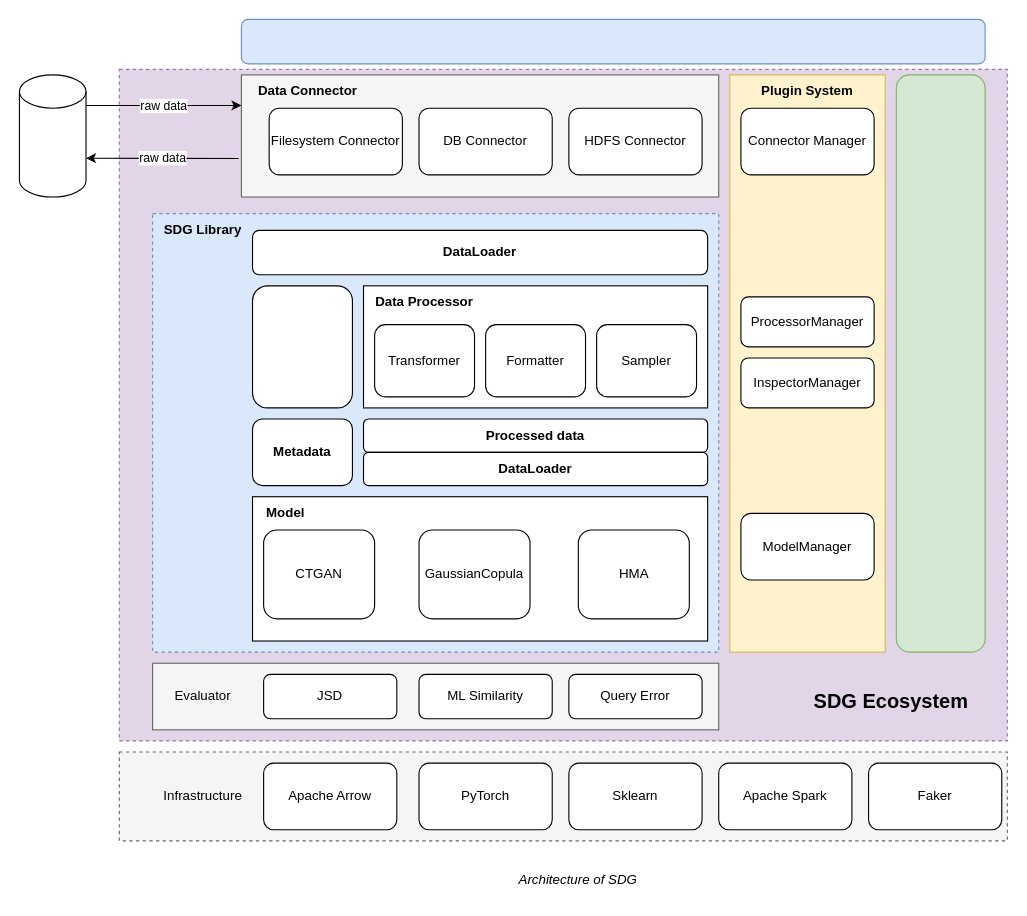
The diagram is 1027 pixels wide and 916 high, and some of its shapes have lost their labels. The shapes that lost their labels are listed below. From the top down, each one's box as (x1, y1, x2, y2) in pixels, then its label:
(240, 18, 985, 64): CLI
(18, 74, 86, 197): Storage
(251, 285, 352, 408): Inspector
(895, 74, 985, 652): Synthesizer
